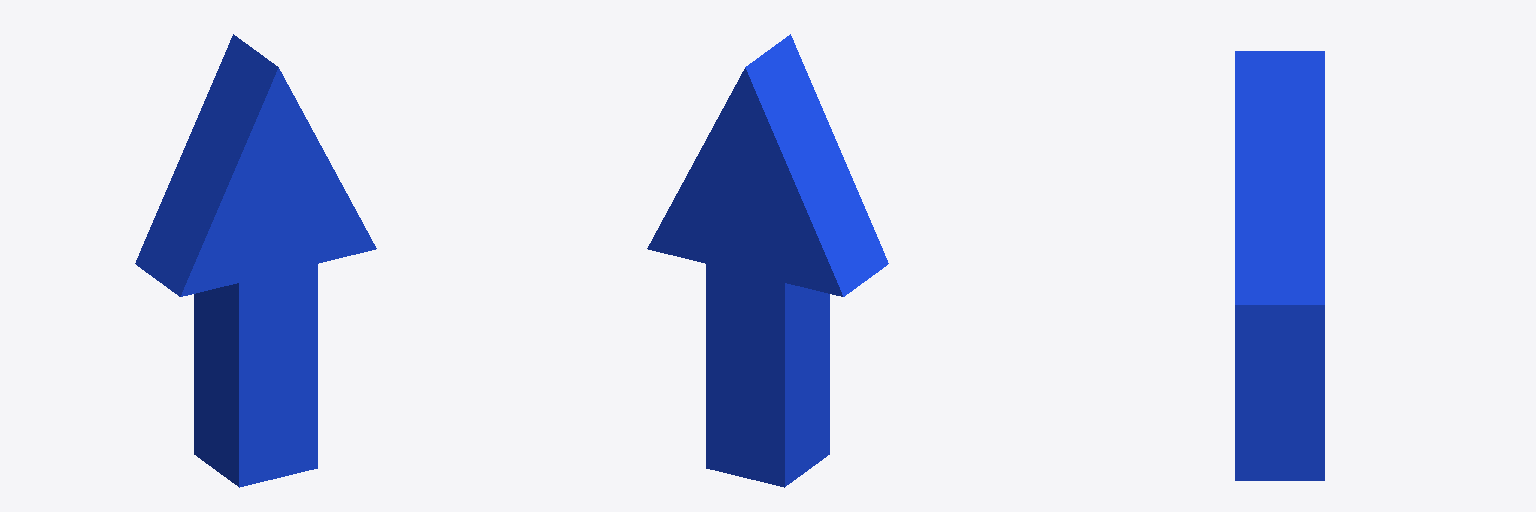
The model's file is bluearrow.obj.
The picture shows the model from 3 angles: view 1: azimuth 30°, elevation 25°; view 2: azimuth 150°, elevation 25°; view 3: azimuth 270°, elevation 25°; orthographic projection.
Parts seen in each view (by area): view 1: bluearrow; view 2: bluearrow; view 3: bluearrow.
Boxes of the visible parts, x1,y1,x2,y2 form: bluearrow: [135, 34, 376, 487]; bluearrow: [647, 34, 888, 487]; bluearrow: [1235, 51, 1324, 480].
Bounding box in the file's own units: 50 × 99.7 × 20.